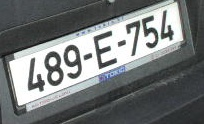4: (24, 57, 45, 93), (156, 10, 177, 43)
7: (124, 21, 142, 56), (141, 15, 159, 50)
8: (44, 51, 65, 87)
9: (62, 44, 83, 82)
E: (93, 32, 119, 67)
